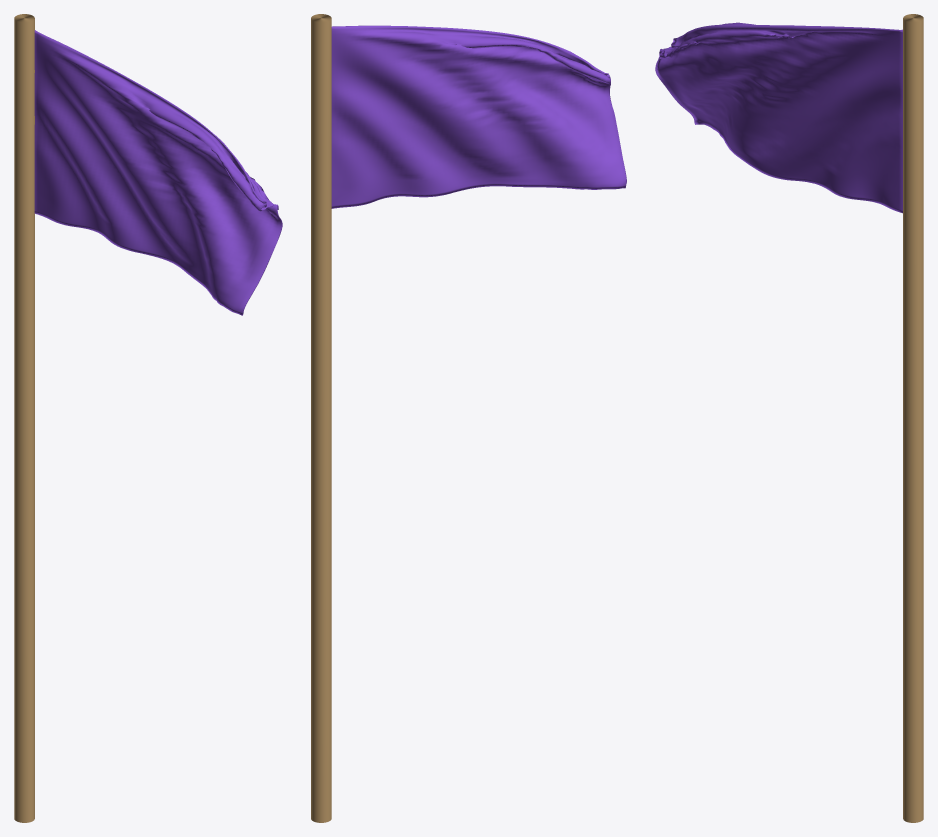
The model's file is flag.fbx.
The picture shows the model from 3 angles, left to right: view 1: azimuth 90°, elevation 25°; view 2: azimuth 150°, elevation 25°; view 3: azimuth 270°, elevation 25°; orthographic projection.
Visible parts, largest first — view 1: Plane, Cylinder; view 2: Plane, Cylinder; view 3: Plane, Cylinder.
Boxes of the visible parts, x1,y1,x2,y2 form: Plane: (34,30,282,315); Cylinder: (14,14,34,822); Plane: (331,25,626,208); Cylinder: (311,14,331,822); Plane: (655,22,902,213); Cylinder: (903,14,923,822).
Size of the model in its own units: 234 by 872 by 265.
